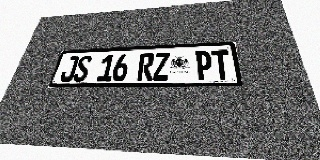1: (97, 54, 116, 81)
6: (111, 54, 130, 81)
J: (59, 56, 80, 82)
P: (195, 50, 213, 80)
R: (137, 53, 154, 81)
S: (72, 55, 92, 82)
T: (211, 50, 232, 80)
Z: (153, 52, 170, 80)
